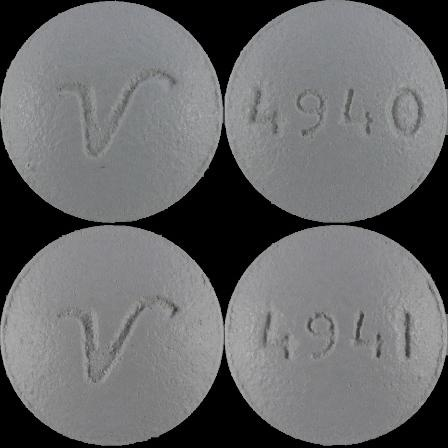0603-5060: (0, 0, 224, 224)
